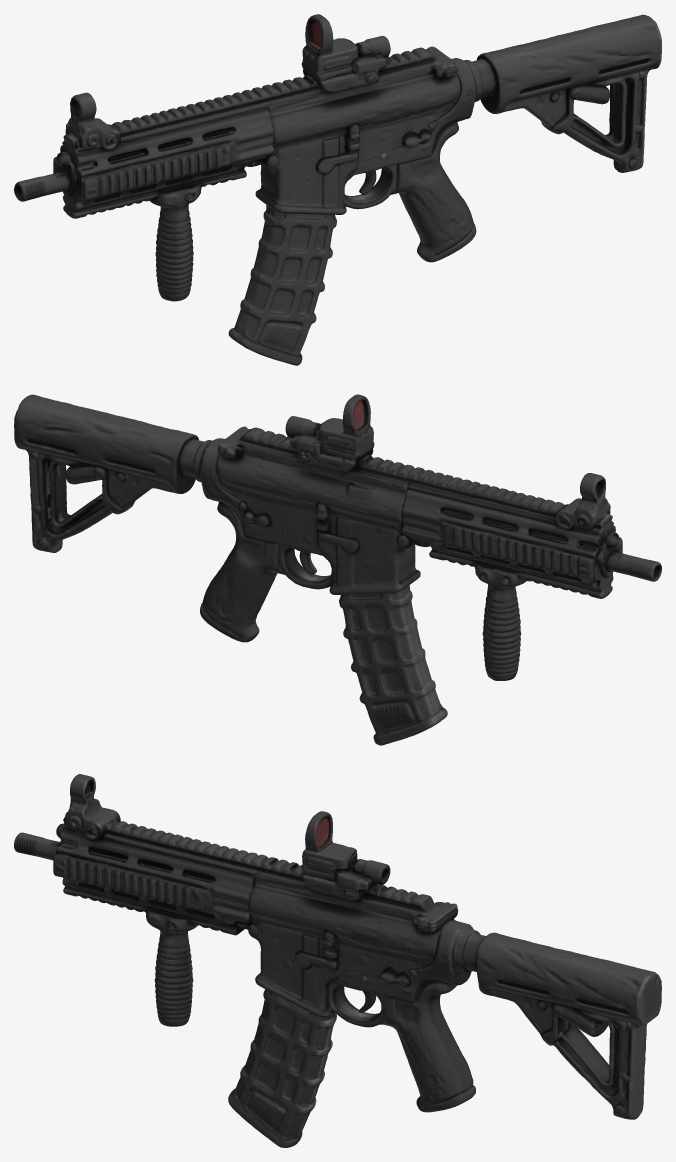
The picture shows the model from 3 angles, top to bottom: view 1: azimuth 30°, elevation 25°; view 2: azimuth 150°, elevation 25°; view 3: azimuth 330°, elevation 25°; orthographic projection.
Size of the model in its own units: 1.9 by 0.969 by 0.1733.
Materials: 1 (1 with a texture image).
